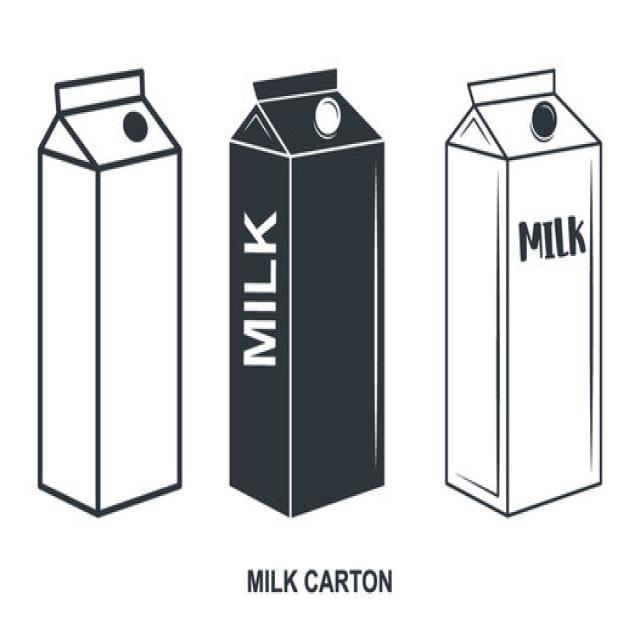Carton: (437, 60, 617, 541), (23, 46, 200, 531), (221, 65, 396, 529)
